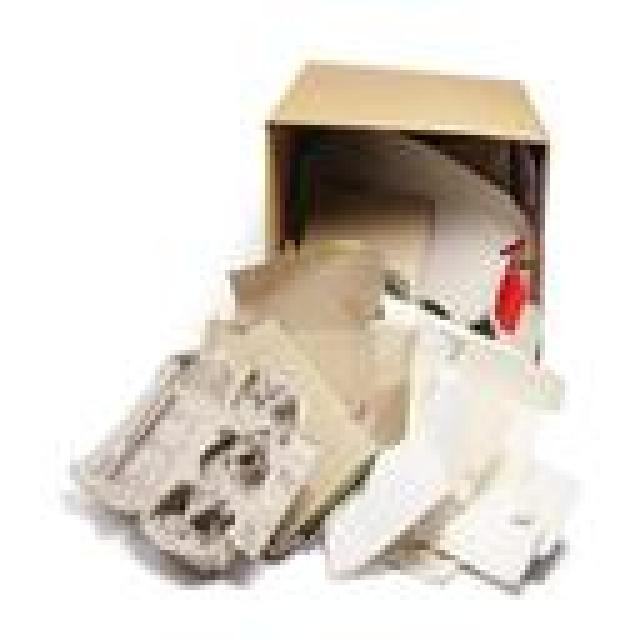Cardboard: (262, 63, 548, 297)
Paper: (435, 450, 565, 580), (325, 445, 450, 565)
